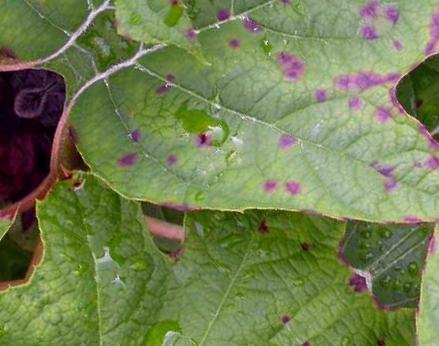Tomato leaf bacterial spot: (44, 0, 439, 346)
